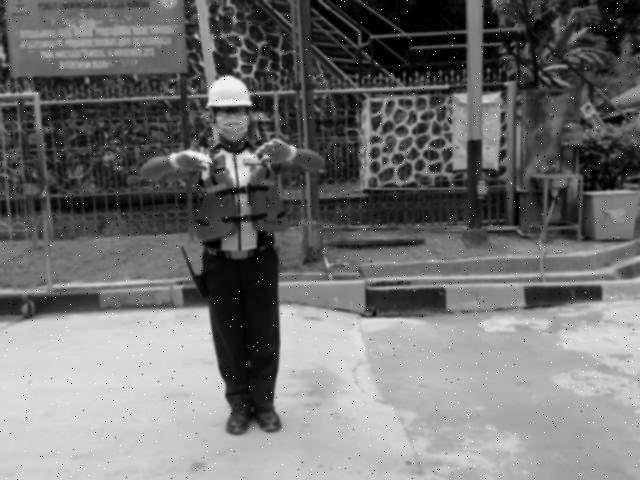glasses: (216, 106, 249, 117)
gloves: (253, 134, 299, 170), (166, 147, 215, 176)
helmet: (206, 73, 252, 107)
mask: (216, 116, 249, 140)
safety-shoes: (225, 405, 251, 440), (252, 408, 286, 434)
vest: (193, 166, 293, 243)
